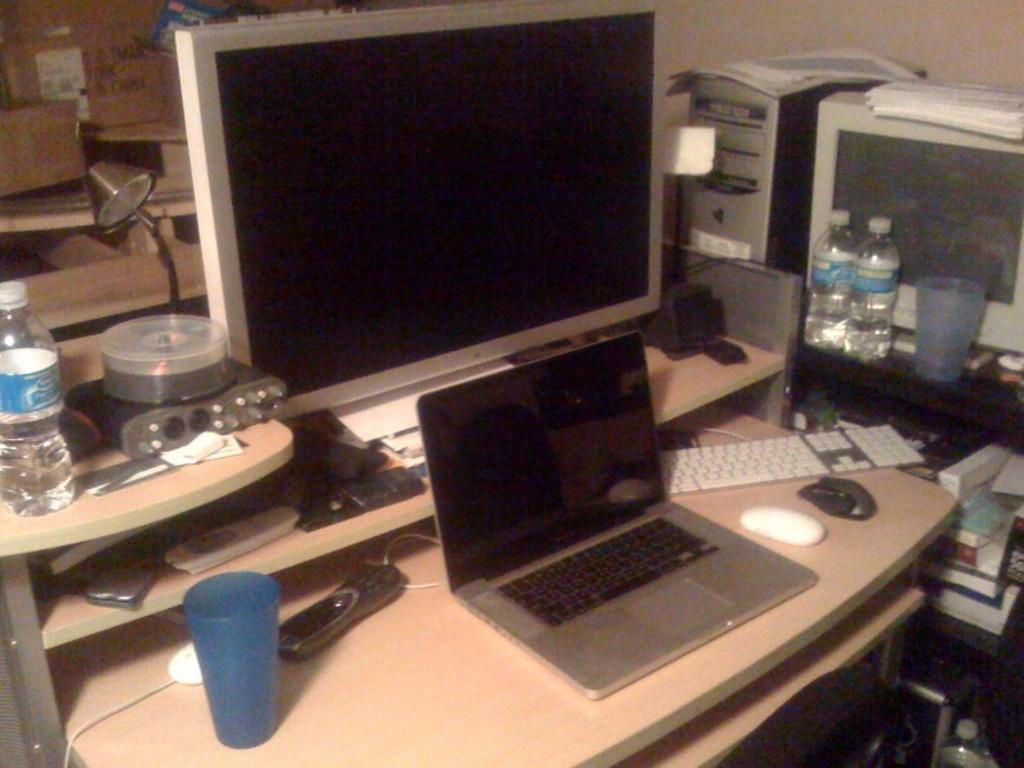Computer-keyboard: (498, 509, 722, 630), (657, 421, 924, 499)
Computer-monitor: (164, 23, 689, 417), (416, 330, 671, 596)
Laptop: (417, 326, 814, 703)
